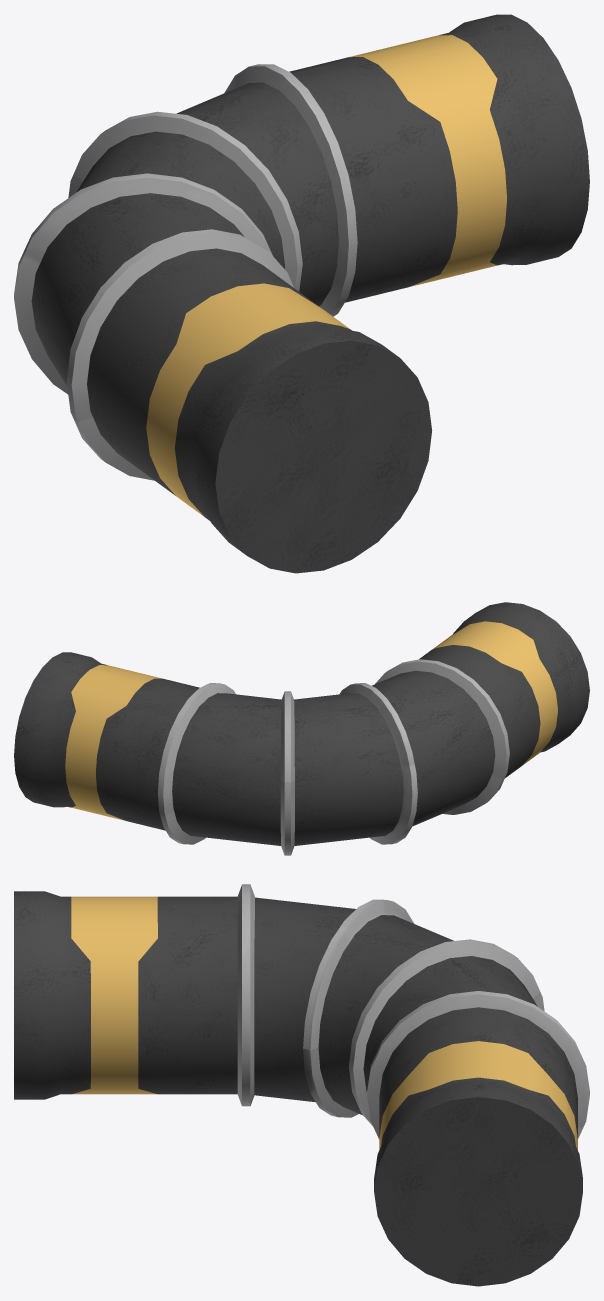
The model's file is Huge_pipe_90.fbx.
3 views of the same model, one above another, from view 1: azimuth 30°, elevation 25°; view 2: azimuth 150°, elevation 25°; view 3: azimuth 270°, elevation 25° (orthographic). The views are drawn at different scales.
Visible parts, largest first — view 1: Huge_pipe_90; view 2: Huge_pipe_90; view 3: Huge_pipe_90.
Boxes of the visible parts, box(x1,y1,x2,y2) form: Huge_pipe_90: box(14, 14, 589, 573); Huge_pipe_90: box(14, 602, 589, 855); Huge_pipe_90: box(14, 884, 589, 1286).
Bounding box in the file's own units: 372 × 144 × 372.
